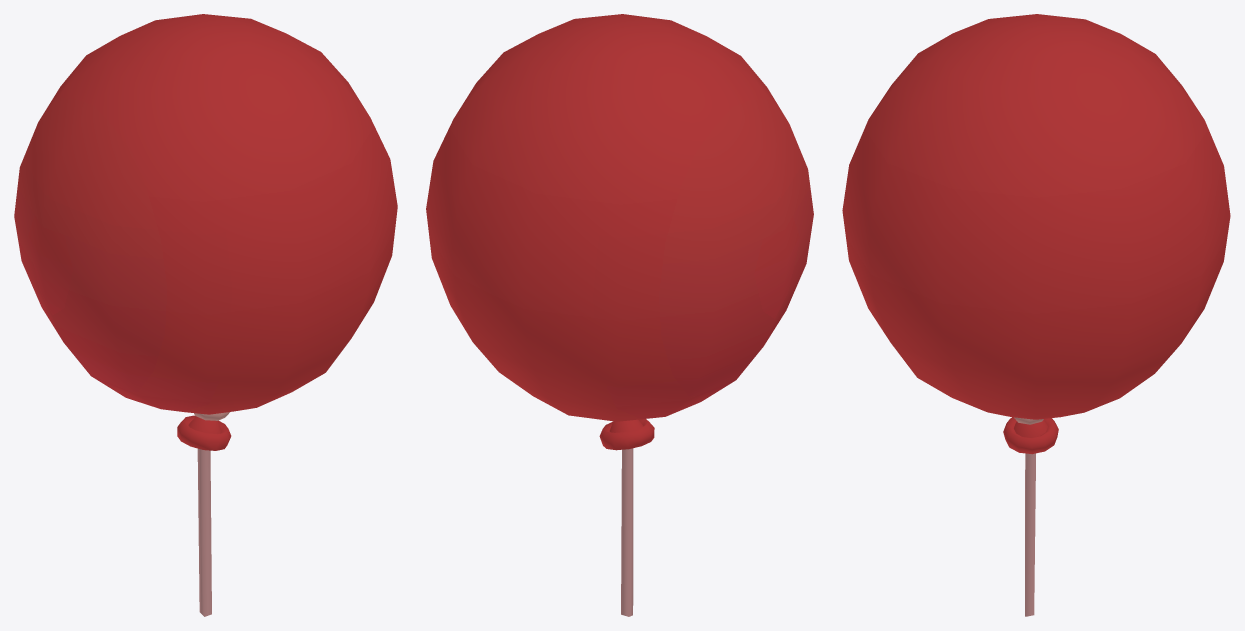
Rendered from balloon-3.glb.
3 renders of one model, left to right at view 1: azimuth 30°, elevation 25°; view 2: azimuth 150°, elevation 25°; view 3: azimuth 270°, elevation 25°, orthographic.
Size of the model in its own units: 5.36 by 8.94 by 5.36.
Materials: 1 (1 with a texture image).
